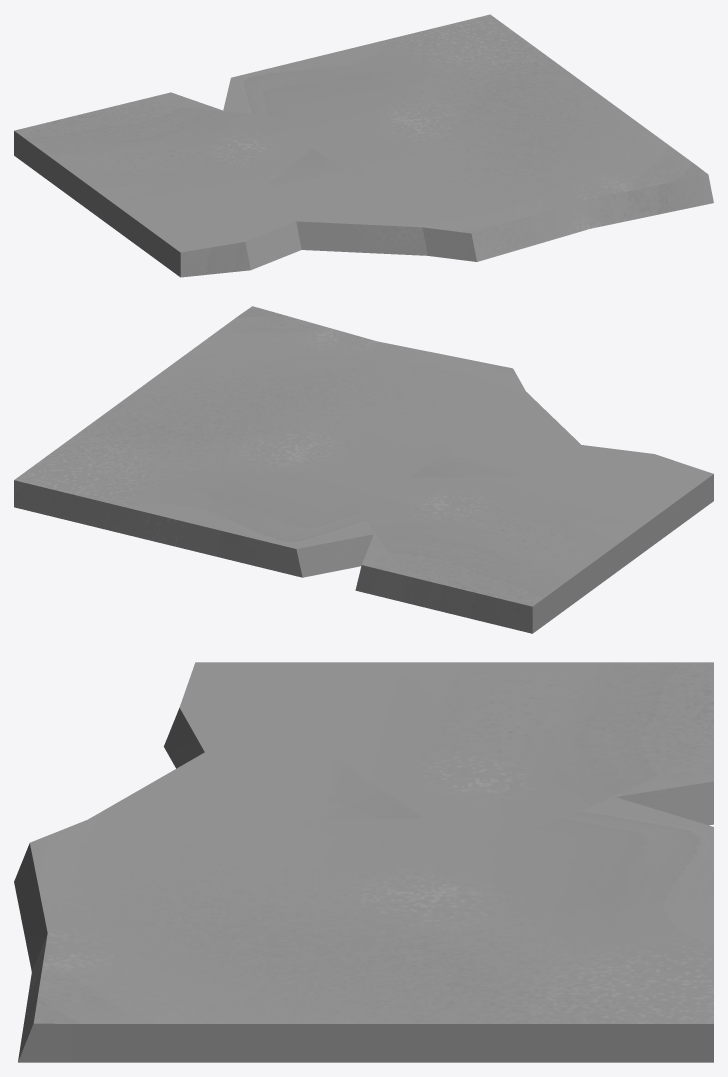
Rendered from Rock_tile_1.001.fbx.
The picture shows the model from 3 angles, top to bottom: view 1: azimuth 30°, elevation 25°; view 2: azimuth 150°, elevation 25°; view 3: azimuth 270°, elevation 25°; orthographic projection. The views are drawn at different scales.
Parts seen in each view (by area): view 1: Rock_tile_1.001; view 2: Rock_tile_1.001; view 3: Rock_tile_1.001.
Boxes of the visible parts, bbox=[...] form: Rock_tile_1.001: bbox=[14, 14, 713, 277]; Rock_tile_1.001: bbox=[14, 306, 713, 633]; Rock_tile_1.001: bbox=[14, 662, 713, 1062].
Bounding box in the file's own units: 0.5 × 0.025 × 0.4089.
